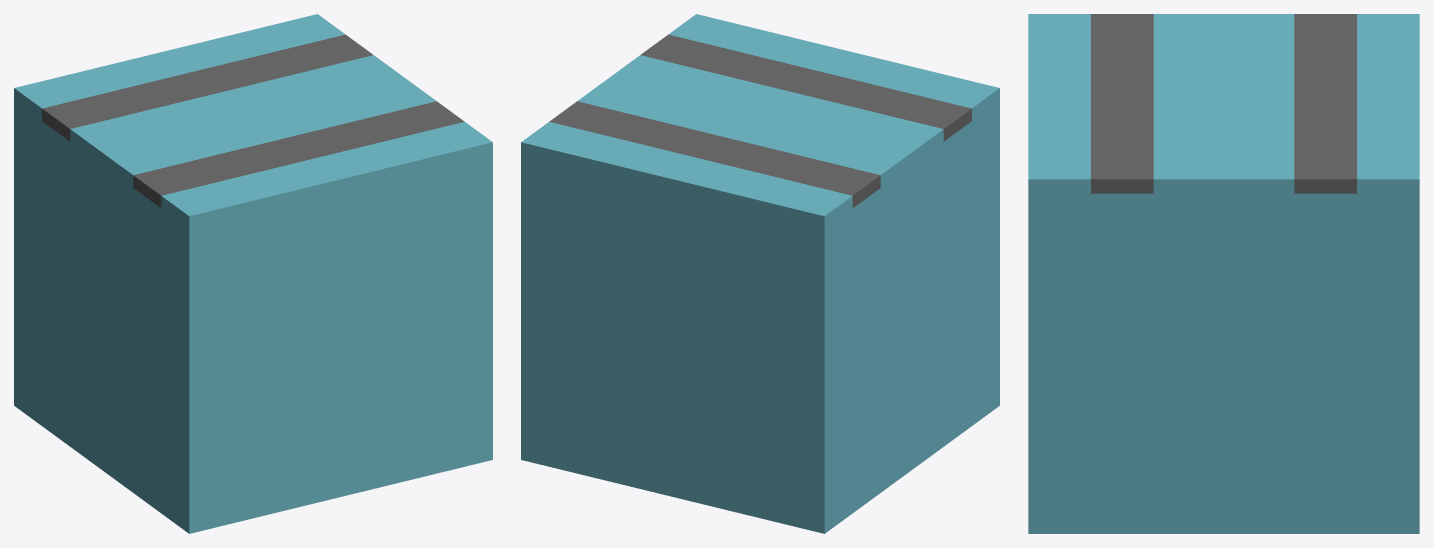
Rendered from Floor_L2.obj.
3 views of the same model, side by side, from view 1: azimuth 30°, elevation 25°; view 2: azimuth 150°, elevation 25°; view 3: azimuth 270°, elevation 25° (orthographic). The views are drawn at different scales.
Parts seen in each view (by area): view 1: Floor_L2; view 2: Floor_L2; view 3: Floor_L2.
Part boxes in pixels (x1,y1,x2,y2): Floor_L2: (14,14,492,533); Floor_L2: (521,14,999,533); Floor_L2: (1028,14,1419,533).
Size of the model in its own units: 10 by 10 by 10.
